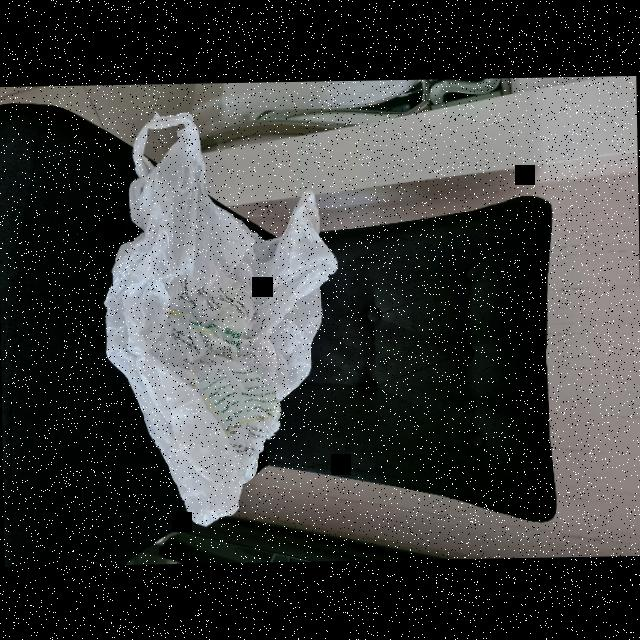plastic_bag: (97, 107, 343, 526)
